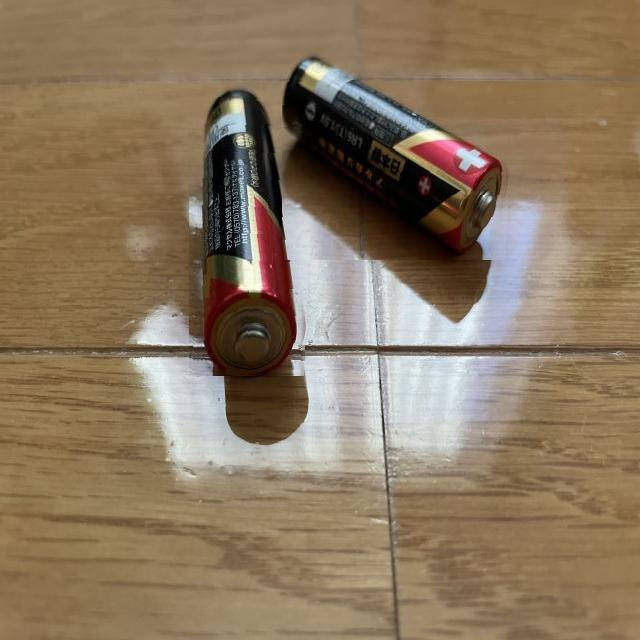battery: (282, 48, 515, 260), (189, 82, 315, 376)
